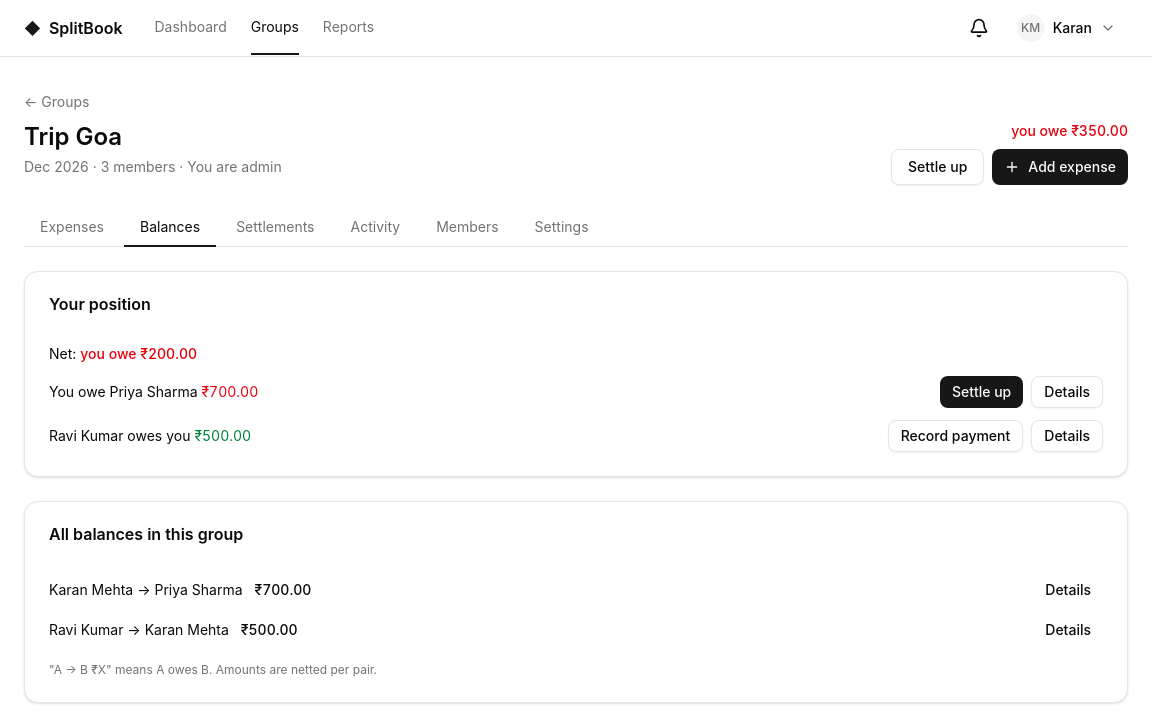
Test: §10–§11 balances and settle up › settle up from the balances tab prefills and handles over-payment confirmation
Expected: the text "You owe Priya Sharma ₹700.00" is shown, top-left (49, 382), bottom-right (258, 402)
Expected: the text "Ravi Kumar → Karan Mehta" is shown, top-left (49, 620), bottom-right (298, 640)
Click the 2nd button "Settle up" at [982, 392], box top-left (940, 376), bottom-right (1023, 408)
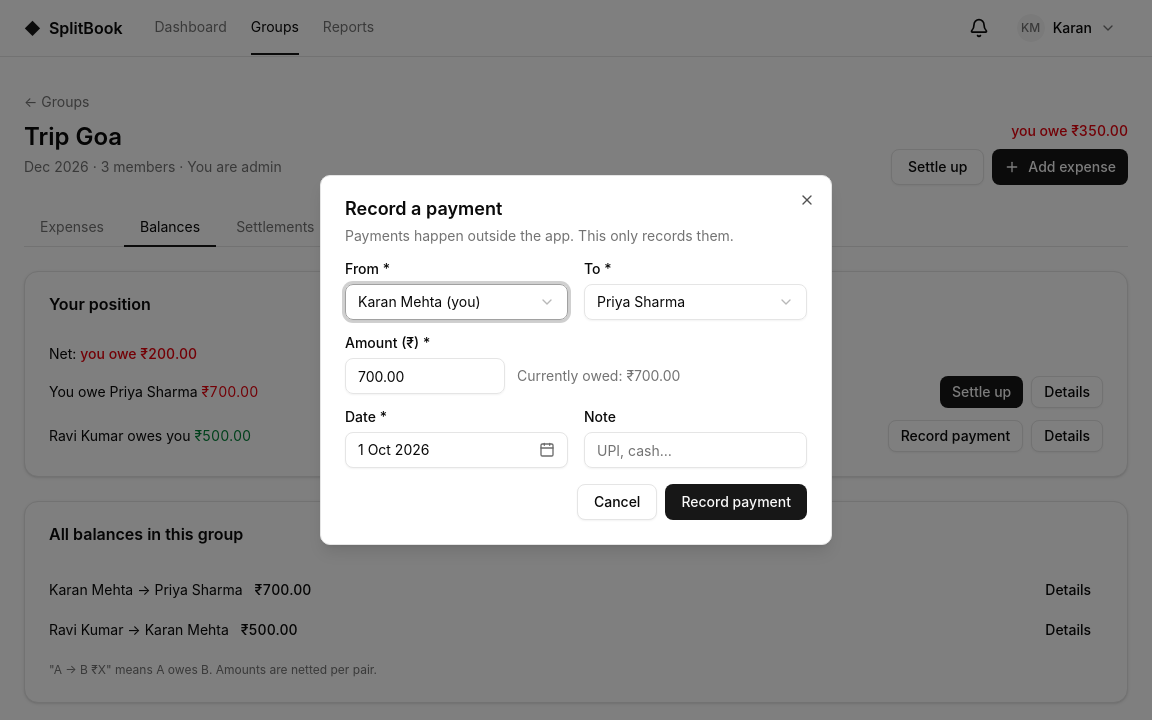
Expected: the field labelled "Amount (₹) *" holds "700.00"
Expected: the text "Currently owed: ₹700.00" is shown, top-left (517, 366), bottom-right (680, 386)
Replace the text in the field labelled "Amount (₹) *" with "1000" at [425, 376], box top-left (345, 358), bottom-right (505, 394)
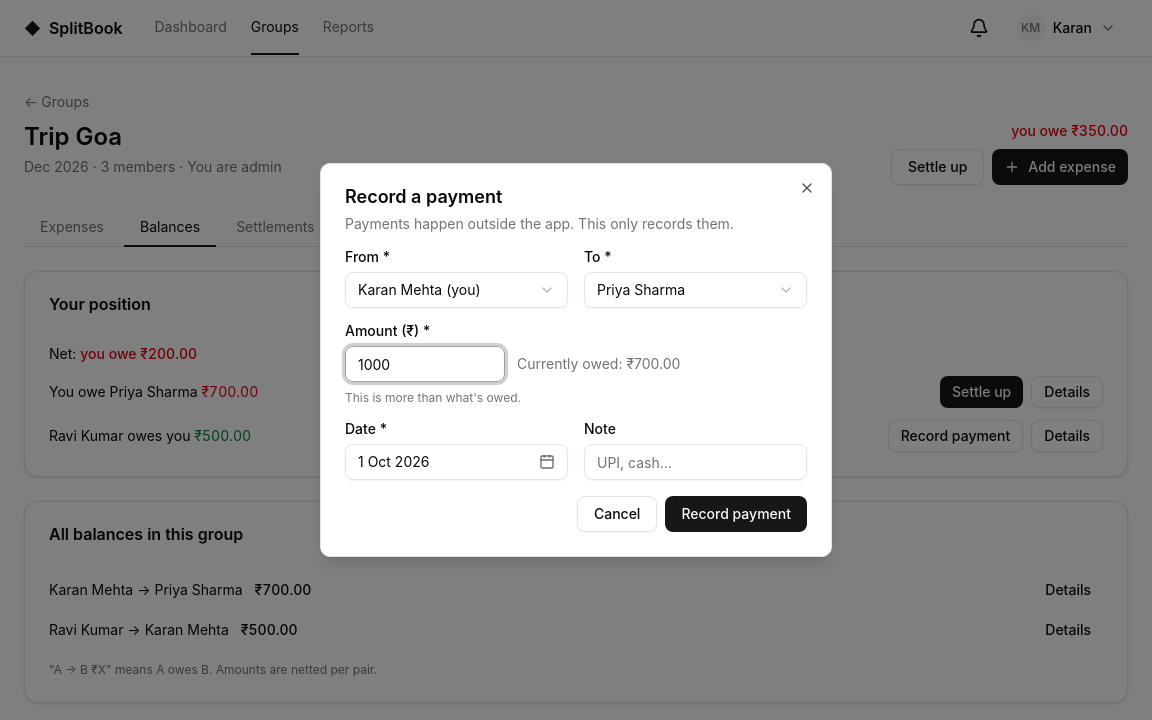
Type "UPI" into the field labelled "Note" at [696, 462], box top-left (584, 444), bottom-right (807, 480)
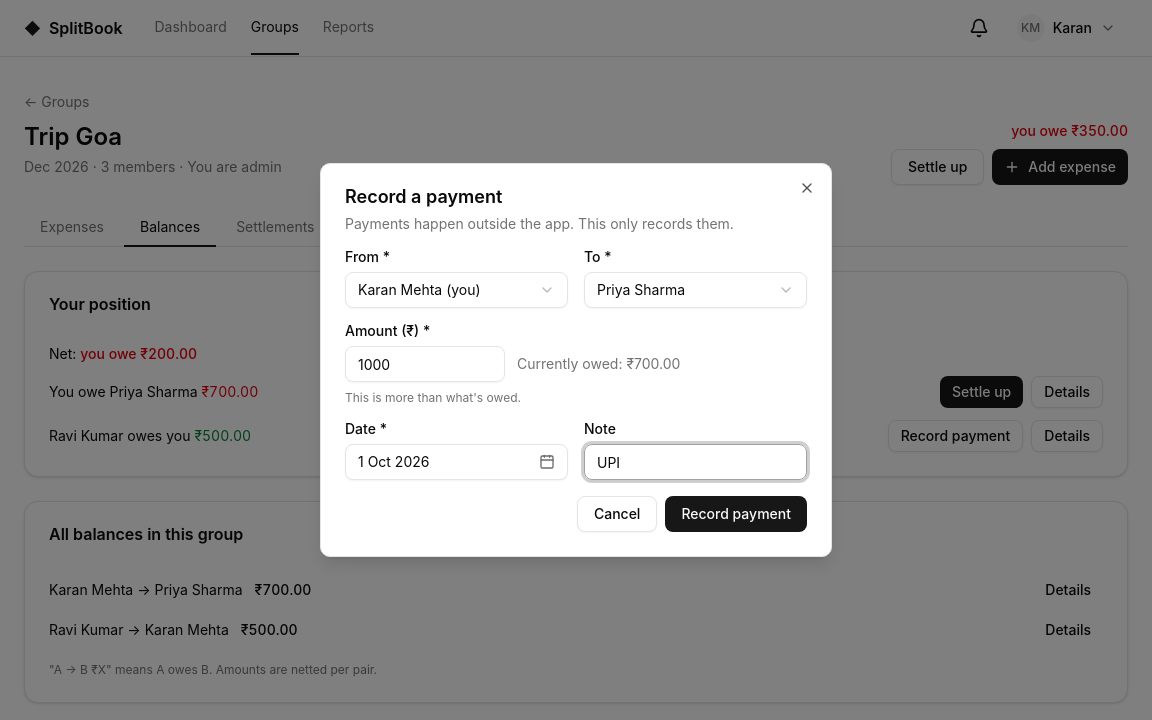
Click the button "Record payment" at [736, 514], box top-left (665, 496), bottom-right (807, 532)
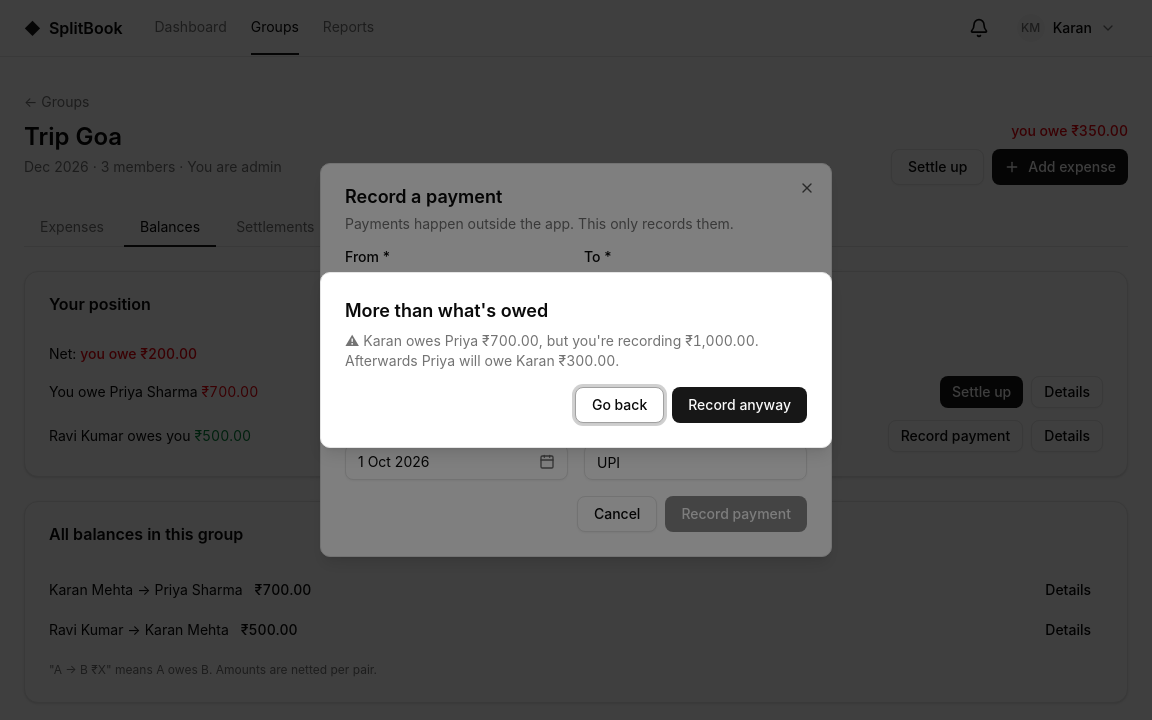
Expected: the dialog that starts with "More than what's owed" shows "Karan owes Priya ₹700.00, but you're recording ₹1,000.00. Afterwards Priya will owe Karan ₹300.00.", top-left (320, 272), bottom-right (832, 448)
Click the button "Record anyway" at [740, 405], box top-left (672, 387), bottom-right (807, 423)
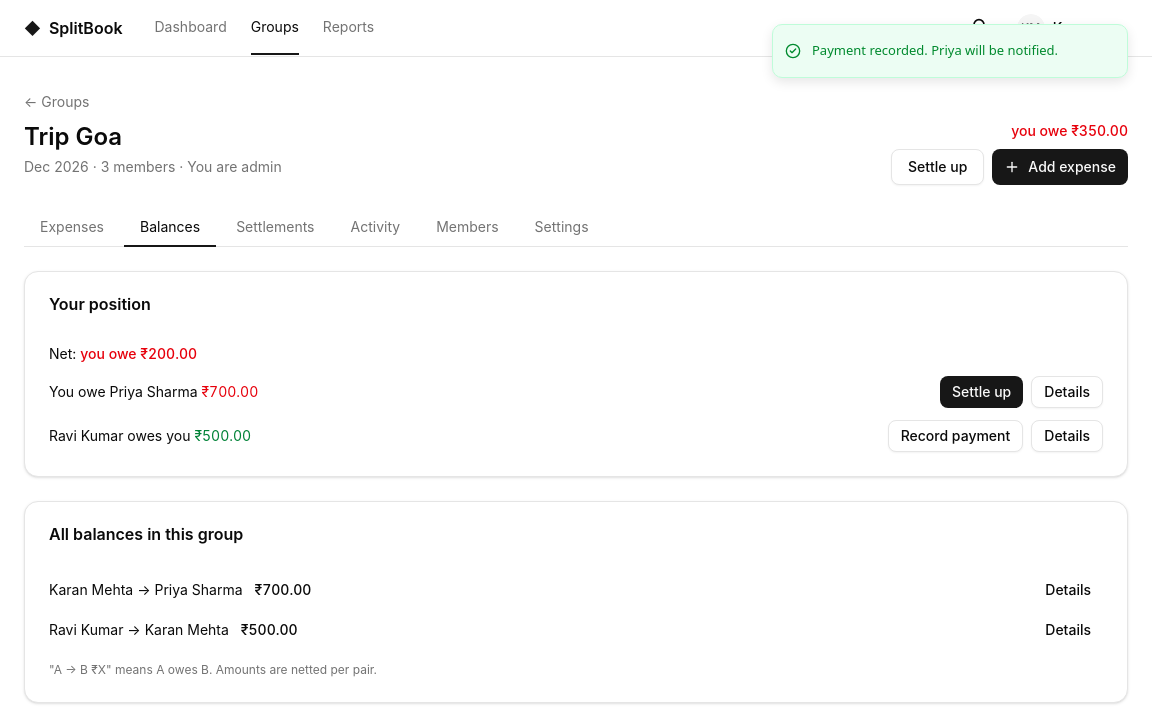
Expected: the text "Payment recorded. Priya will be notified." is shown, top-left (812, 41), bottom-right (1058, 60)
